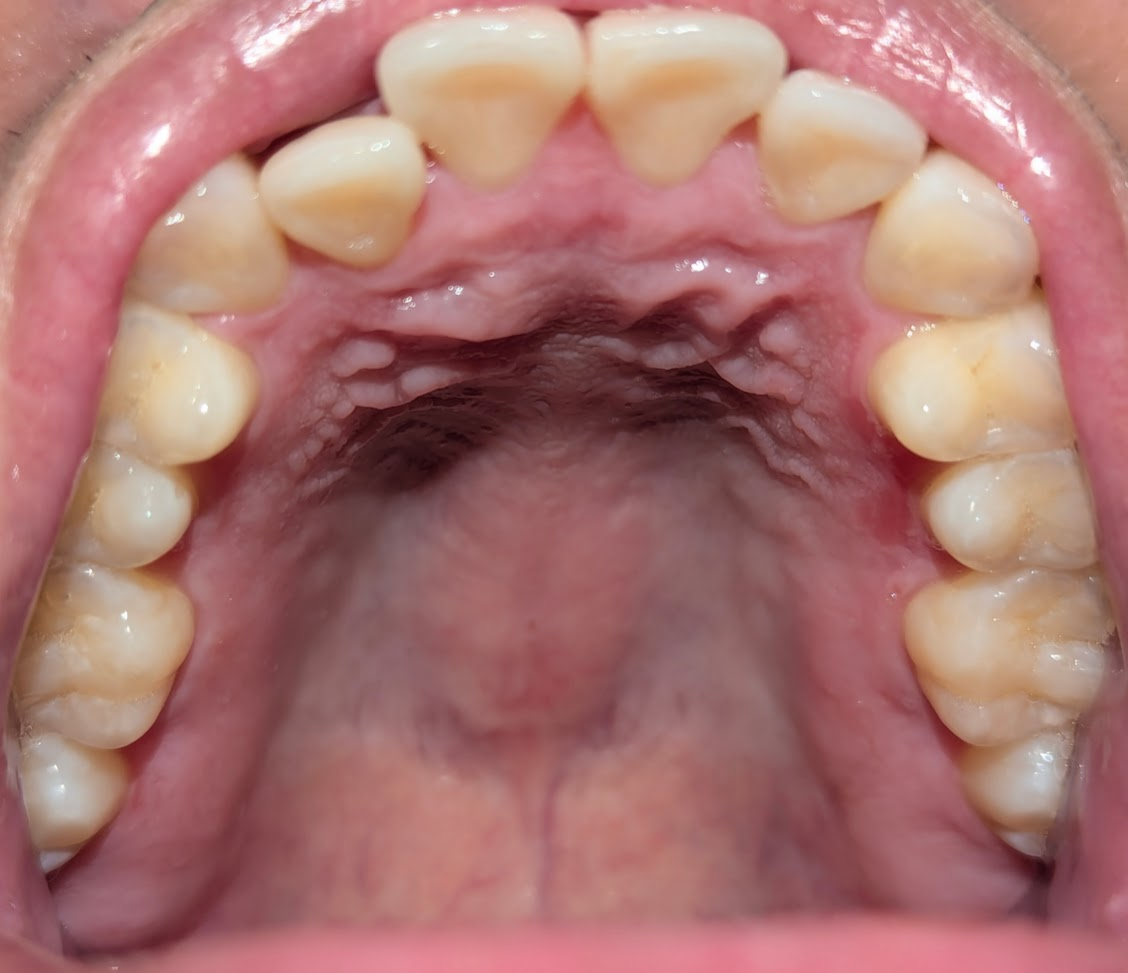teeth: (18, 563, 203, 757), (385, 17, 577, 195), (600, 17, 781, 186), (884, 308, 1074, 459), (914, 572, 1099, 727), (98, 310, 260, 466), (760, 73, 927, 224), (864, 164, 1035, 310), (135, 165, 290, 314), (272, 121, 435, 253), (934, 451, 1098, 575), (55, 443, 198, 576)
